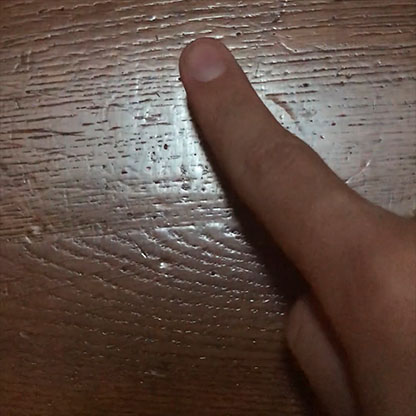fingertip: (172, 33, 247, 101)
